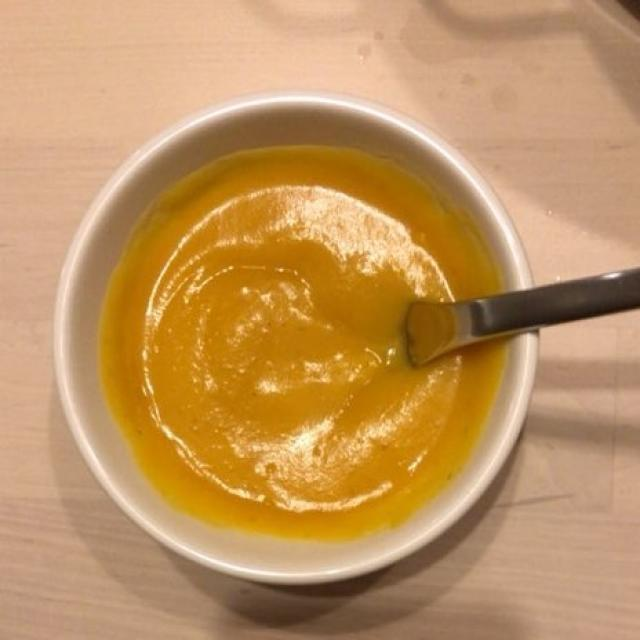soup: (99, 148, 492, 534)
